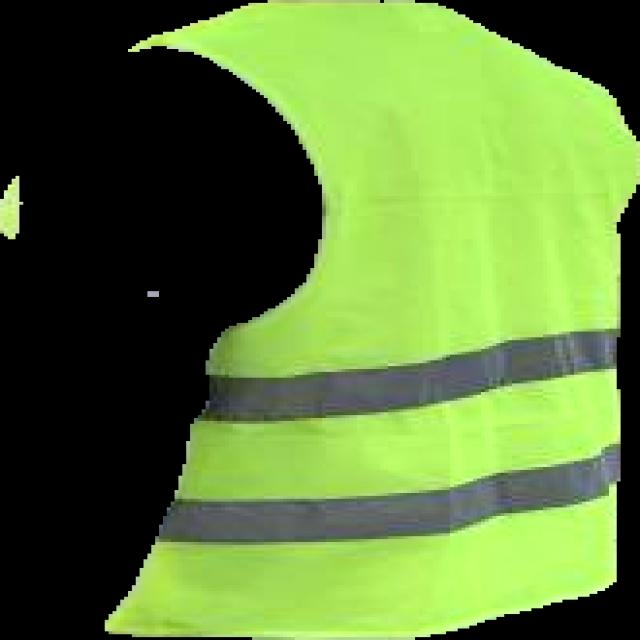Colete: (105, 0, 639, 639)
